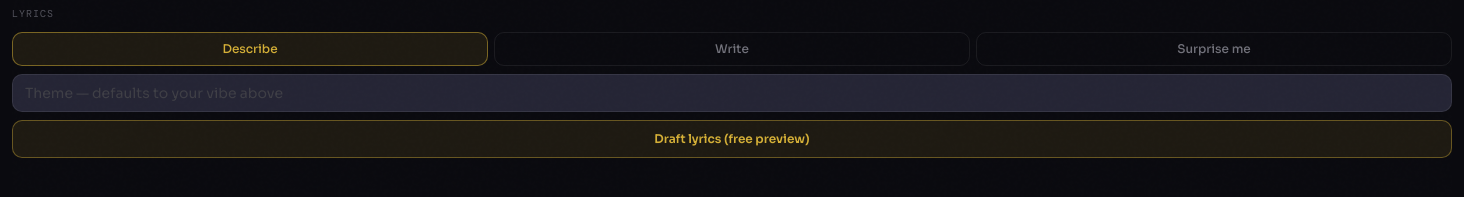
Scenario: LyricsStage › shows an error and no editor when drafting fails
Click the button "Draft lyrics (free preview)" at (732, 139), box x1=12 y1=120 x2=1452 y2=158
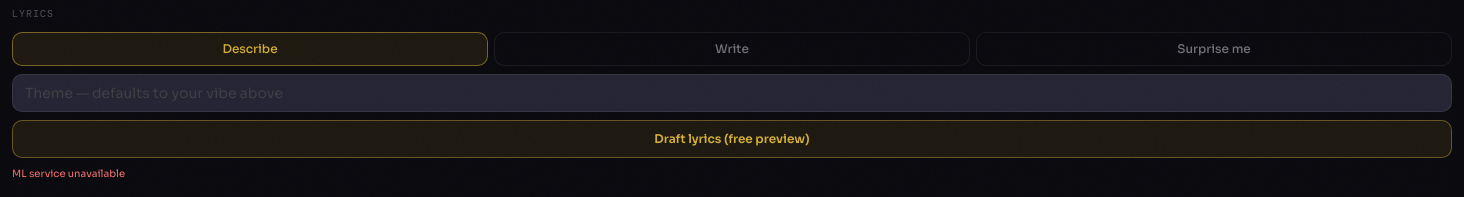
Expected: the message reads "ML service unavailable", x1=12 y1=167 x2=125 y2=180
